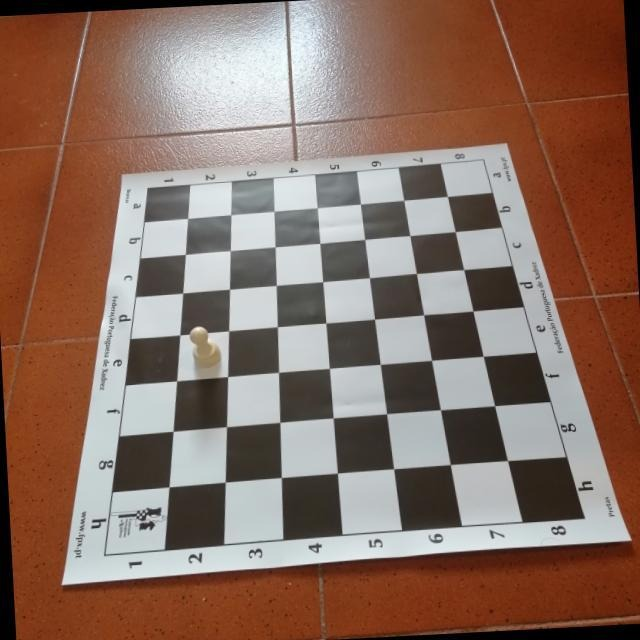white-pawn: (188, 324, 223, 370)
